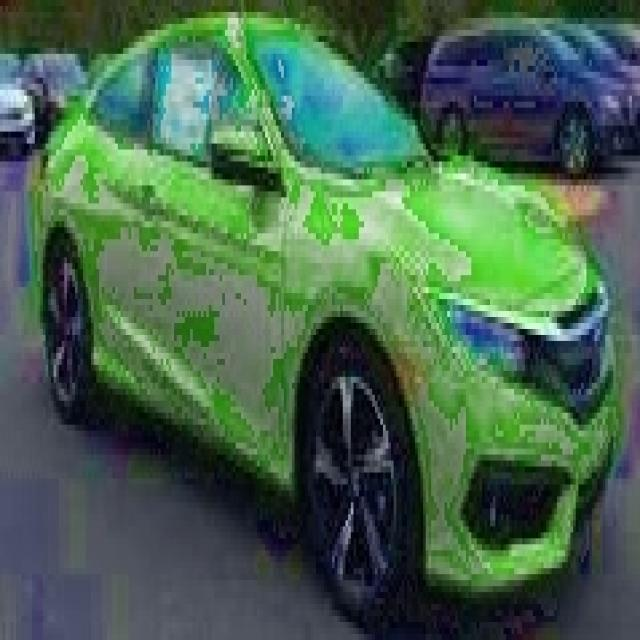green: (35, 9, 616, 631)
